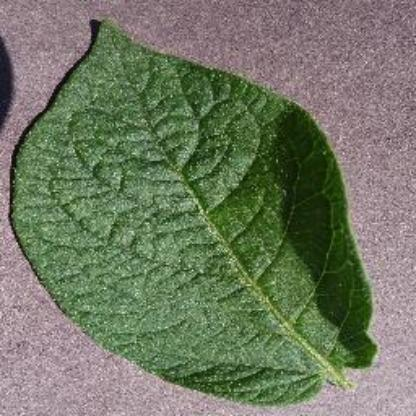Healthy-plant: (21, 20, 386, 392)
